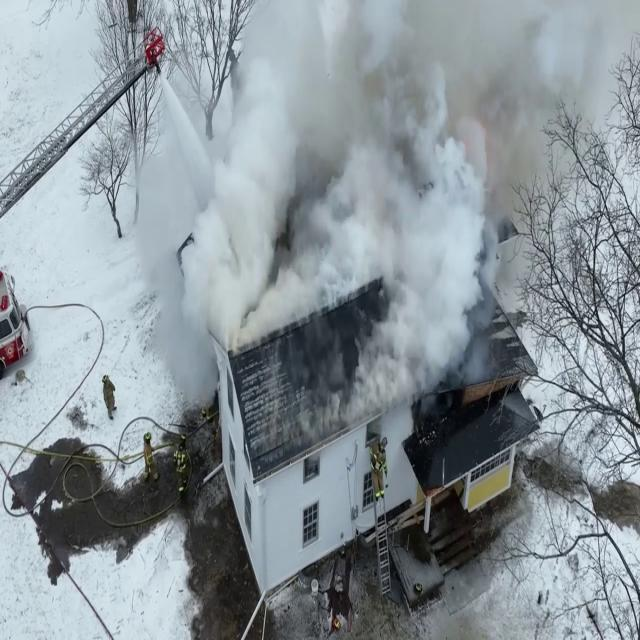Smoke: (123, 0, 544, 383)
